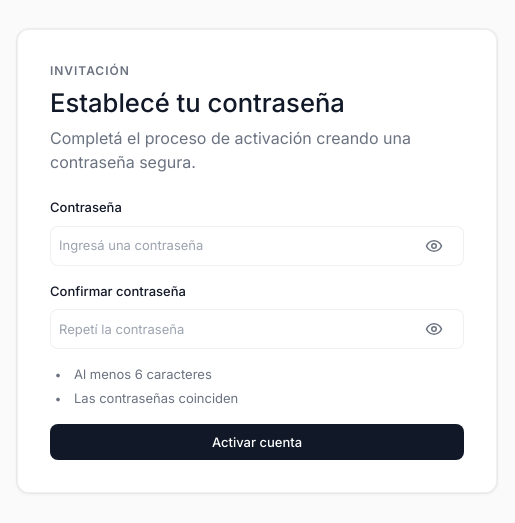
InvitePage › shows an error when the password is too short
The width and height of the screenshot is (515, 523).
Type "123" into the password field labelled "Contraseña". click: (257, 246)
box: [50,226,464,266]
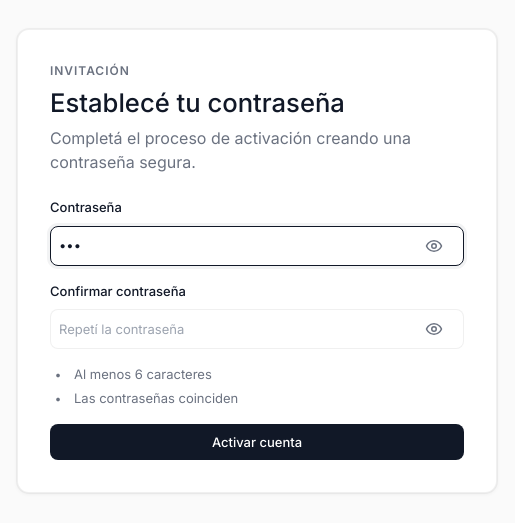
Type "123" into the password field labelled "Confirmar contraseña". click: (257, 329)
box: [50,309,464,349]
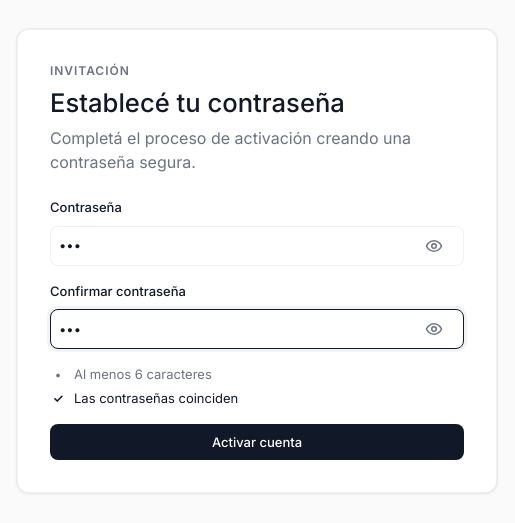
Click the button "Activar cuenta". click: (257, 442)
box: [50,424,464,460]
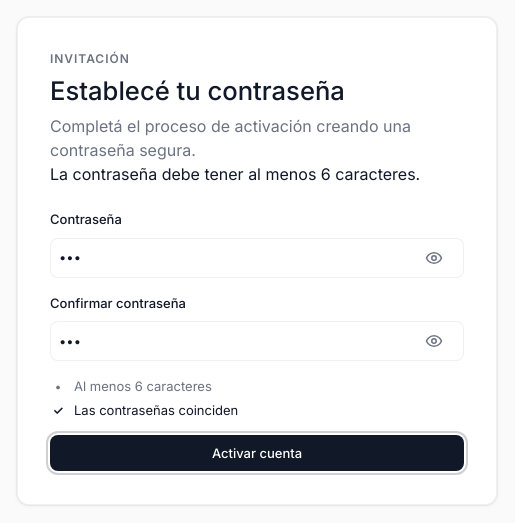
Now the message shows "al menos 6 caracteres", box [50,164,420,184]
